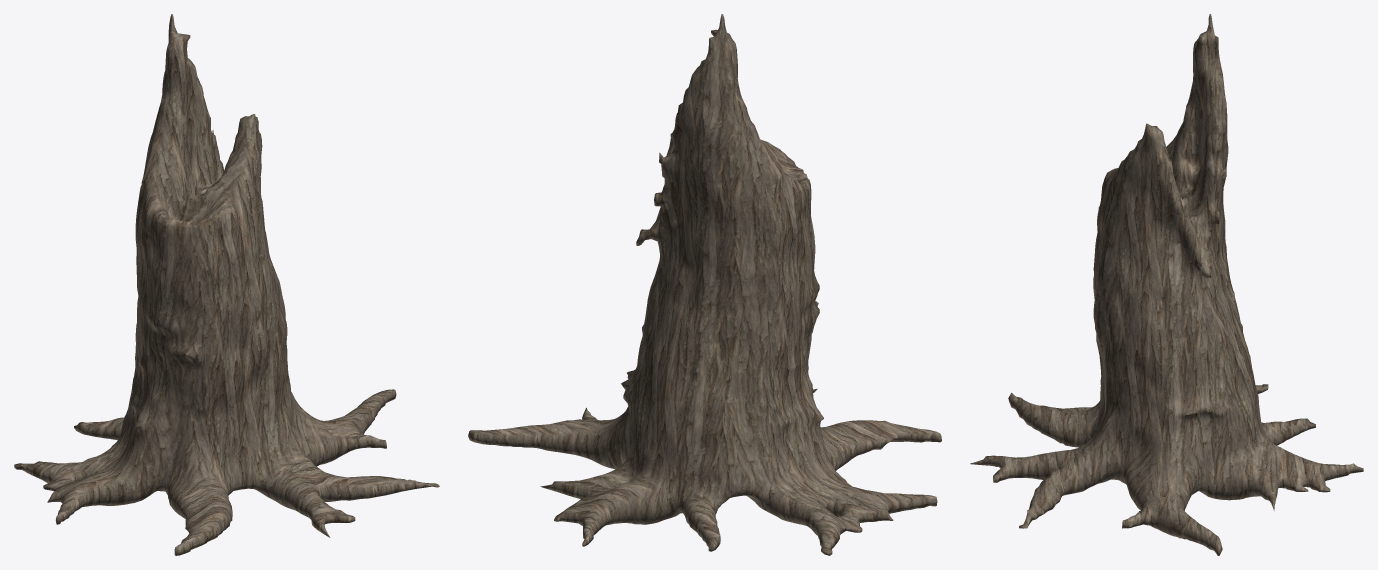
File: twisted-stump-v02.glb
3 renders of one model, left to right at view 1: azimuth 30°, elevation 25°; view 2: azimuth 150°, elevation 25°; view 3: azimuth 270°, elevation 25°, orthographic. The views are drawn at different scales.
Visible parts, largest first — view 1: Twisted stump v02 | unified bark; view 2: Twisted stump v02 | unified bark; view 3: Twisted stump v02 | unified bark.
Part boxes in pixels (bbox=[...]): Twisted stump v02 | unified bark: bbox=[14, 14, 439, 555]; Twisted stump v02 | unified bark: bbox=[468, 14, 941, 555]; Twisted stump v02 | unified bark: bbox=[970, 14, 1363, 555].
Bounding box in the file's own units: 3.82 × 4.39 × 3.46.
Materials: 1 (1 with a texture image).
